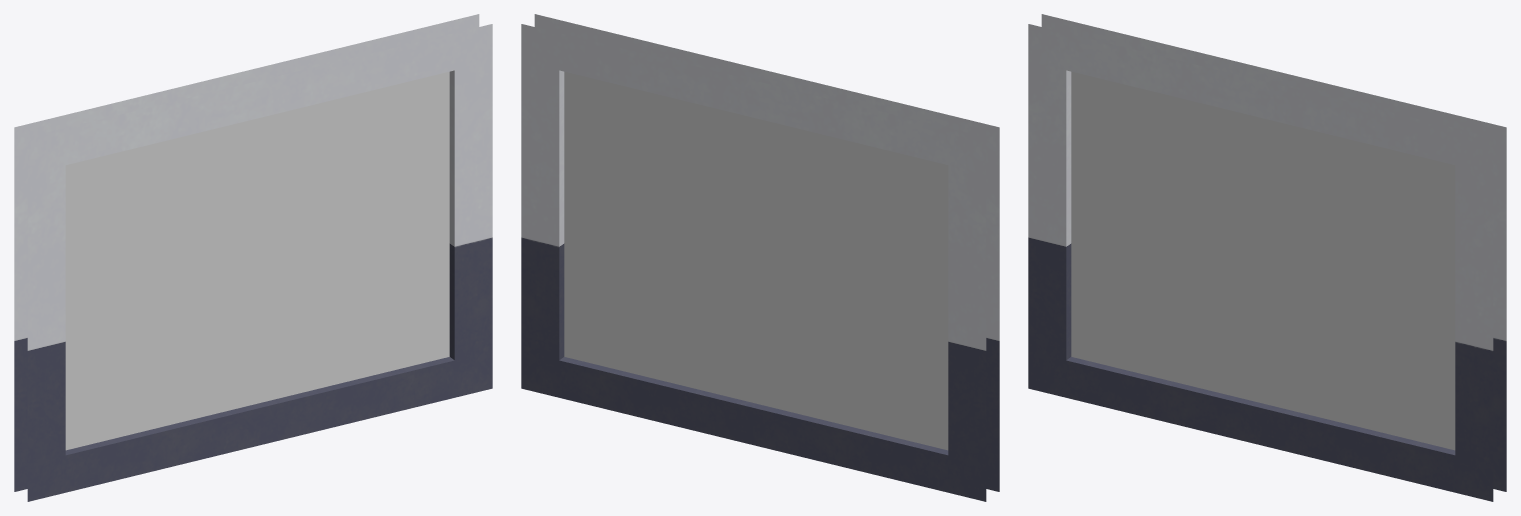
Rendered from Modular_Wall_Window.fbx.
The picture shows the model from 3 angles, left to right: view 1: azimuth 30°, elevation 25°; view 2: azimuth 150°, elevation 25°; view 3: azimuth 330°, elevation 25°; orthographic projection.
Visible parts, largest first — view 1: Window.002, Modular_Wall_Window.001; view 2: Window.002, Modular_Wall_Window.001; view 3: Window.002, Modular_Wall_Window.001.
Part boxes in pixels (x1=…): Window.002: x1=65, y1=71, x2=449, y2=450; Modular_Wall_Window.001: x1=14, y1=14, x2=492, y2=501; Window.002: x1=564, y1=71, x2=948, y2=450; Modular_Wall_Window.001: x1=521, y1=14, x2=999, y2=501; Window.002: x1=1071, y1=71, x2=1455, y2=450; Modular_Wall_Window.001: x1=1028, y1=14, x2=1506, y2=501.
Size of the model in its own units: 4 by 3 by 0.2.
